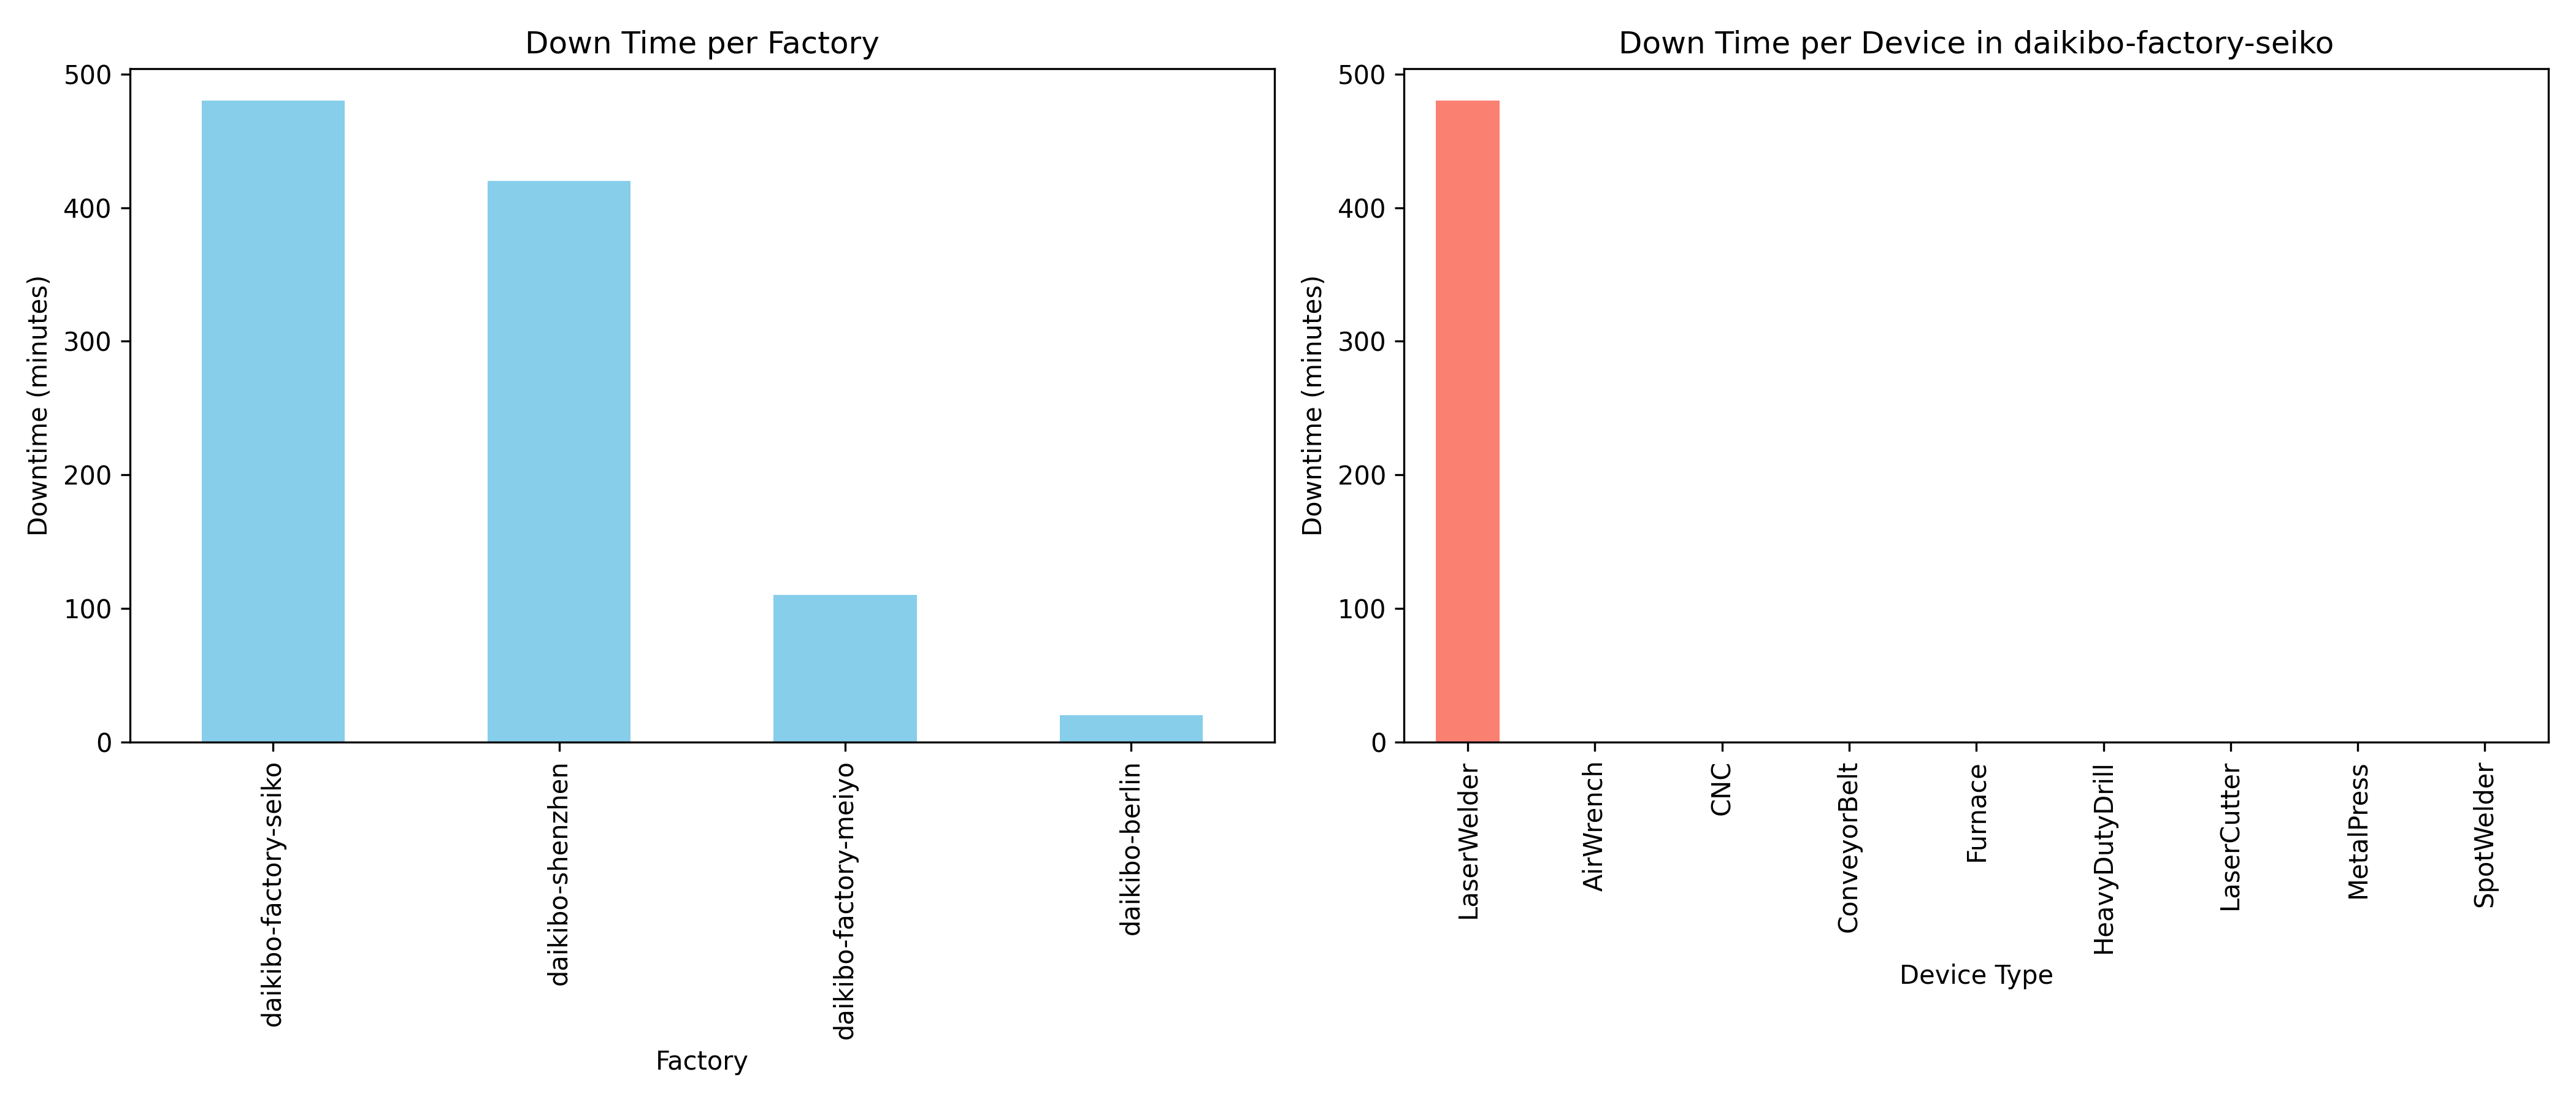

The dashboard page shown, as its layout file describes it:
{"tool":"tableau","page":{"name":"Dashboard 1","canvas":[1000,800],"ordinal":0},"visuals":[{"type":"worksheet","title":"Down Time per Factory","mark":"Automatic","rows":["Calculation_368521163100631040"],"cols":["factory"],"box":[8,8,984,392]},{"type":"worksheet","title":"Down Time per Device Type","mark":"Automatic","rows":["Calculation_368521163100631040"],"cols":["deviceType"],"box":[8,400,984,392]}]}

Visuals, with their boxes on the page's 1000x800 design canvas (x1, y1, x2, y2). These are canvas units, not pixel positions in the 2576x1104 screenshot, which may show the page scaled, cropped or inside an application window:
"Down Time per Factory" worksheet: (left=8, top=8, right=992, bottom=400)
"Down Time per Device Type" worksheet: (left=8, top=400, right=992, bottom=792)
